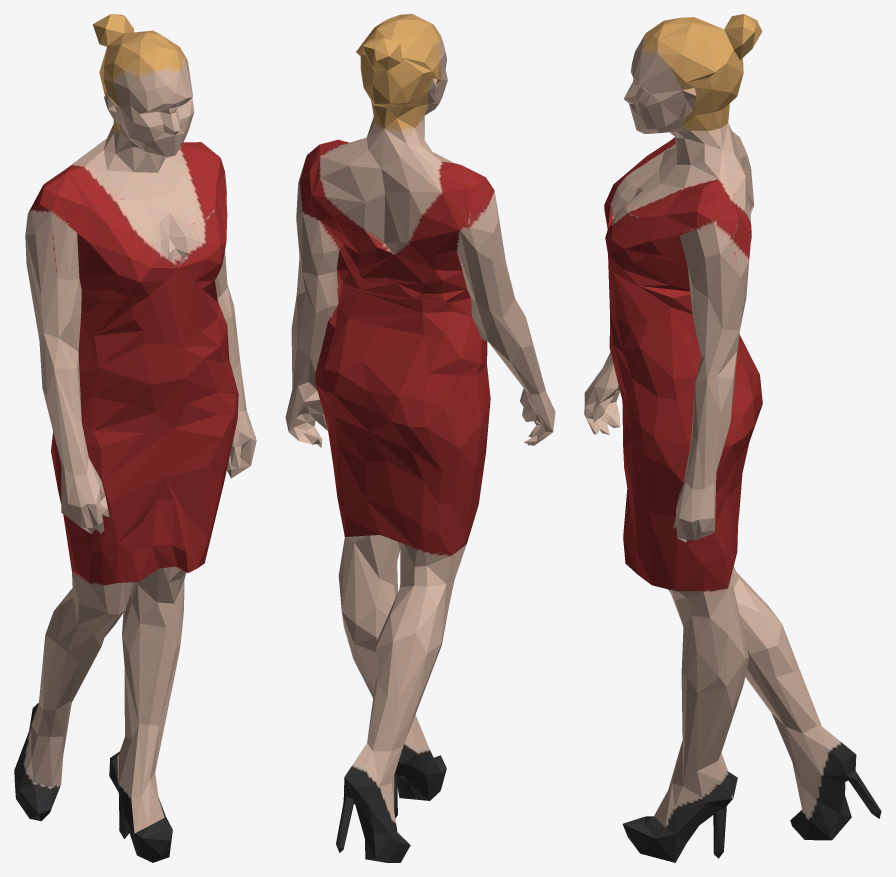
3 renders of one model, left to right at view 1: azimuth 30°, elevation 25°; view 2: azimuth 150°, elevation 25°; view 3: azimuth 270°, elevation 25°, orthographic. The views are drawn at different scales.
Parts seen in each view (by area): view 1: lowpolyPeopleCasualWoman_19.1; view 2: lowpolyPeopleCasualWoman_19.1; view 3: lowpolyPeopleCasualWoman_19.1.
Boxes of the visible parts, x1,y1,x2,y2 form: lowpolyPeopleCasualWoman_19.1: (14, 14, 256, 862); lowpolyPeopleCasualWoman_19.1: (285, 14, 555, 862); lowpolyPeopleCasualWoman_19.1: (584, 14, 881, 862).
Bounding box in the file's own units: 46.17 × 156 × 49.62.
Materials: 2 (1 with a texture image).
